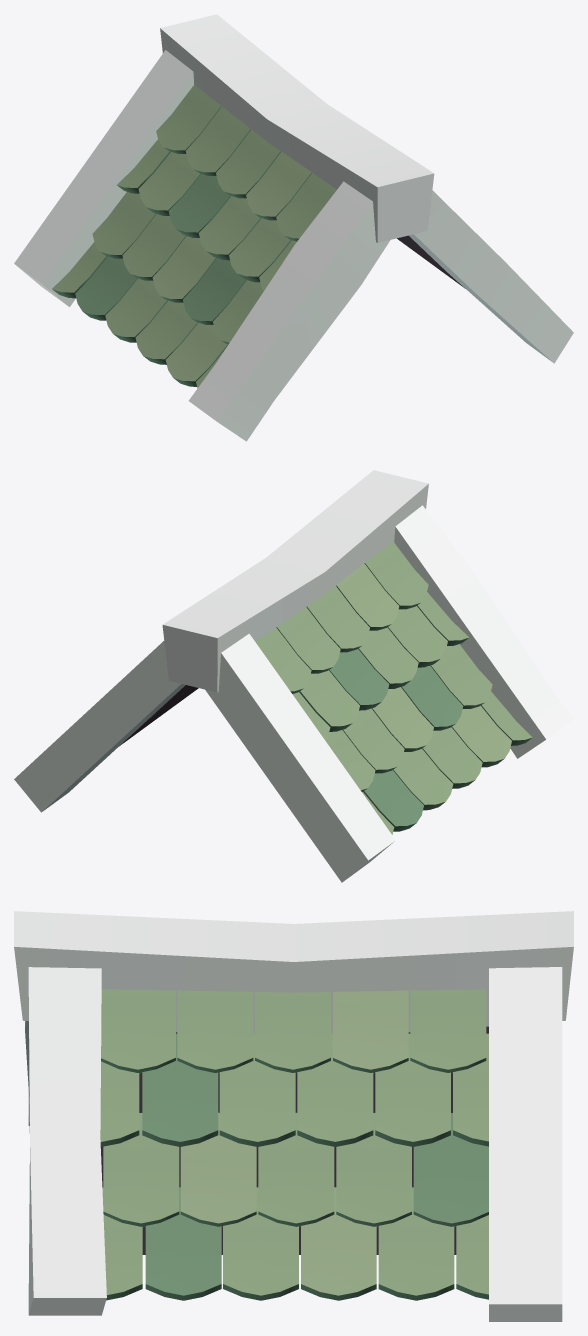
File: Roof01_Green_White.glb
The picture shows the model from 3 angles, top to bottom: view 1: azimuth 30°, elevation 25°; view 2: azimuth 150°, elevation 25°; view 3: azimuth 270°, elevation 25°; orthographic projection. The views are drawn at different scales.
Parts seen in each view (by area): view 1: Roof01_Green_White; view 2: Roof01_Green_White; view 3: Roof01_Green_White.
Boxes of the visible parts, left/top/right/bottom form: Roof01_Green_White: left=14, top=14, right=573, bottom=441; Roof01_Green_White: left=14, top=470, right=573, bottom=882; Roof01_Green_White: left=14, top=911, right=573, bottom=1321.
Bounding box in the file's own units: 2.41 × 1.43 × 2.46.
Materials: 1 (1 with a texture image).
